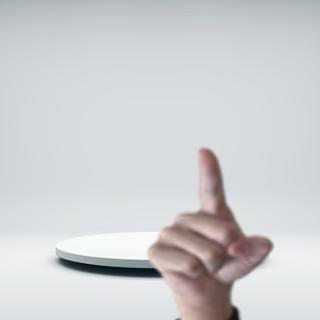IRRITATED: (144, 142, 276, 307)
